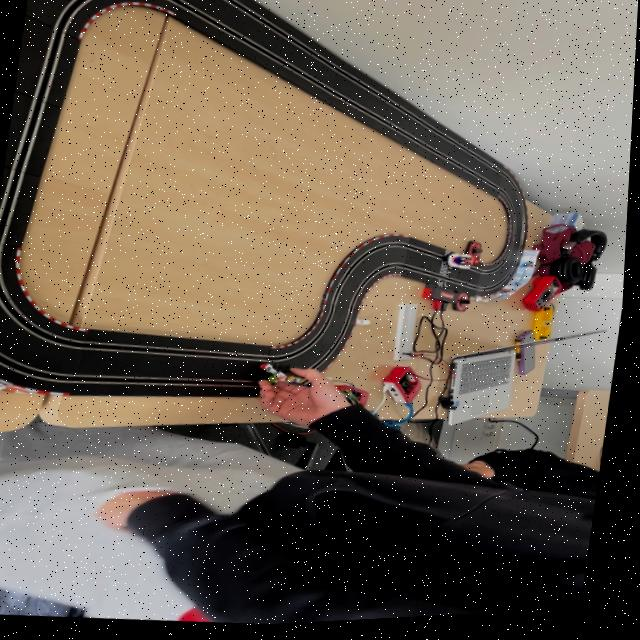mario: (446, 256, 485, 278)
yoshi: (260, 363, 297, 390)
